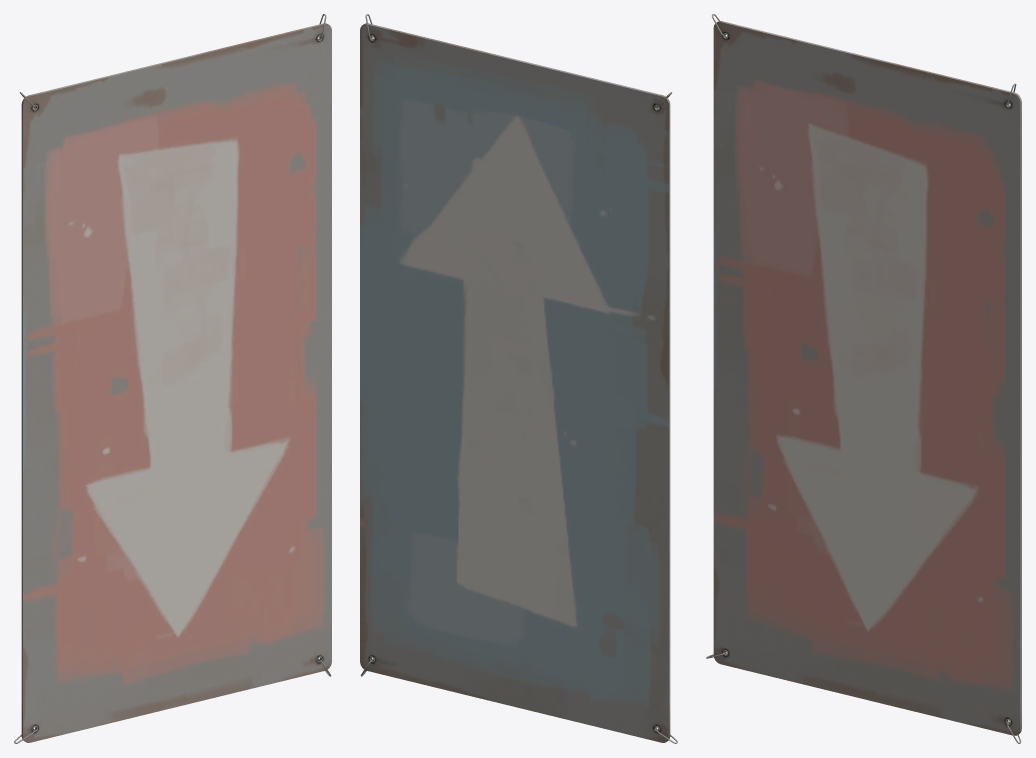
The model's file is props_trainyard_train_billboard001.glb.
The picture shows the model from 3 angles, left to right: view 1: azimuth 30°, elevation 25°; view 2: azimuth 150°, elevation 25°; view 3: azimuth 330°, elevation 25°; orthographic projection.
Parts seen in each view (by area): view 1: models/props_trainyard/train_billboard001; view 2: models/props_trainyard/train_billboard001; view 3: models/props_trainyard/train_billboard001.
Boxes of the visible parts, box(x1,y1,x2,y2) form: models/props_trainyard/train_billboard001: box(14, 14, 331, 743); models/props_trainyard/train_billboard001: box(360, 14, 677, 743); models/props_trainyard/train_billboard001: box(706, 14, 1021, 743).
Size of the model in its own units: 131 by 263 by 4.
1 material, 1 textured.
